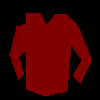abbigliamento_uomo: (9, 12, 92, 96)
